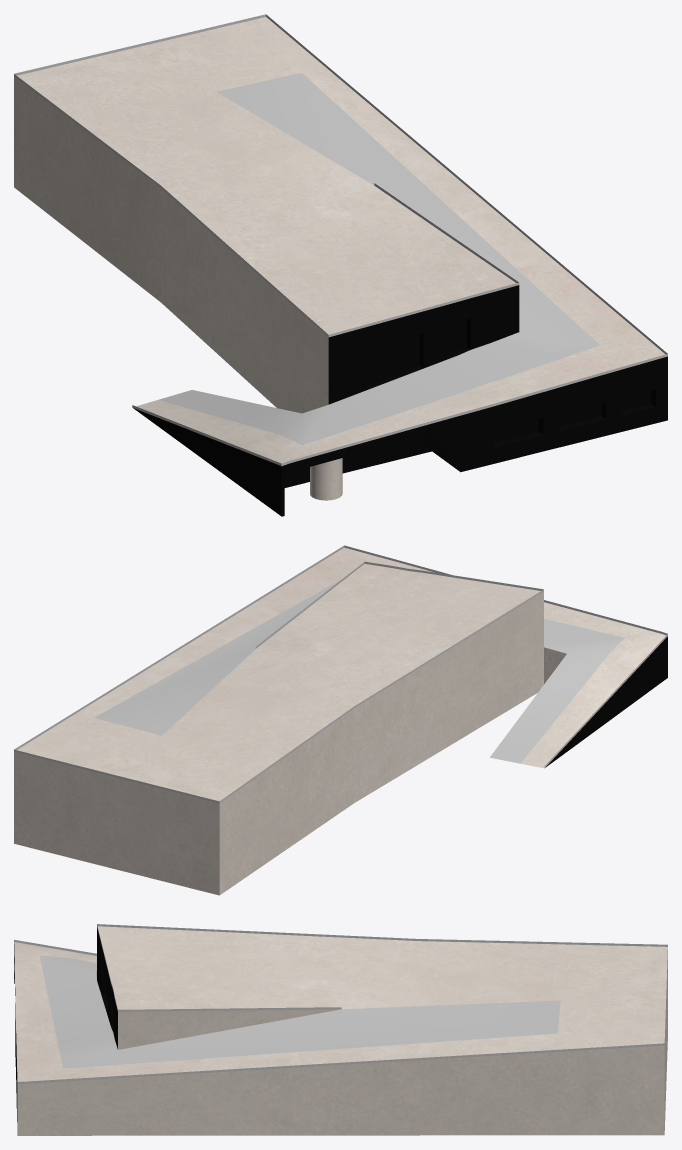
File: SM_Building_04.fbx
The picture shows the model from 3 angles, top to bottom: view 1: azimuth 30°, elevation 25°; view 2: azimuth 150°, elevation 25°; view 3: azimuth 270°, elevation 25°; orthographic projection. The views are drawn at different scales.
Visible parts, largest first — view 1: SM_Building_04; view 2: SM_Building_04; view 3: SM_Building_04.
Boxes of the visible parts, left/top/right/bottom form: SM_Building_04: left=14, top=14, right=667, bottom=516; SM_Building_04: left=14, top=545, right=667, bottom=895; SM_Building_04: left=14, top=924, right=667, bottom=1135.
Bounding box in the file's own units: 34.31 × 10.16 × 61.84.
